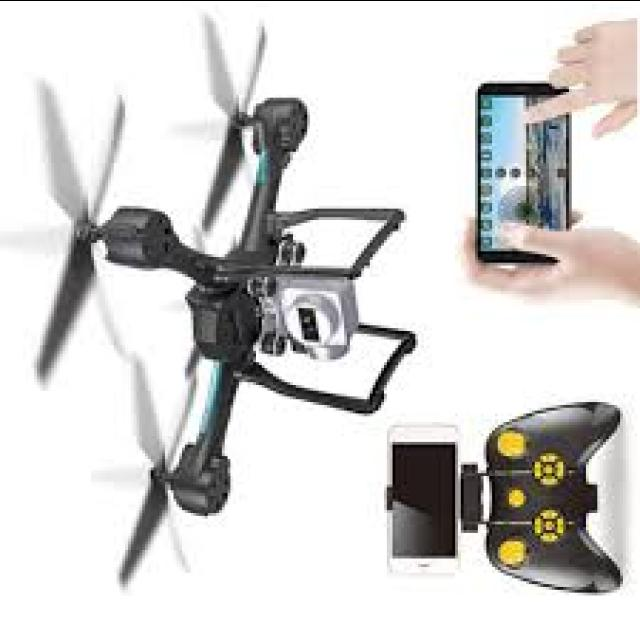drone: (38, 57, 410, 603)
